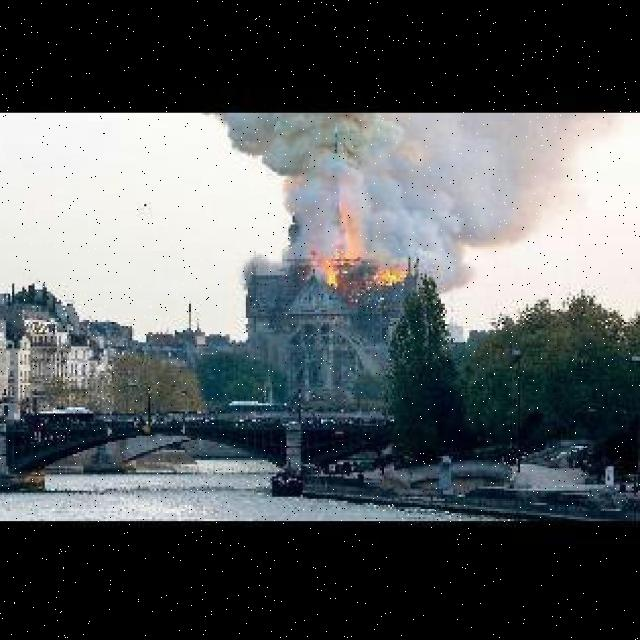fire: (309, 242, 416, 294)
smoke: (225, 113, 567, 245), (418, 224, 489, 294), (238, 255, 288, 310)
